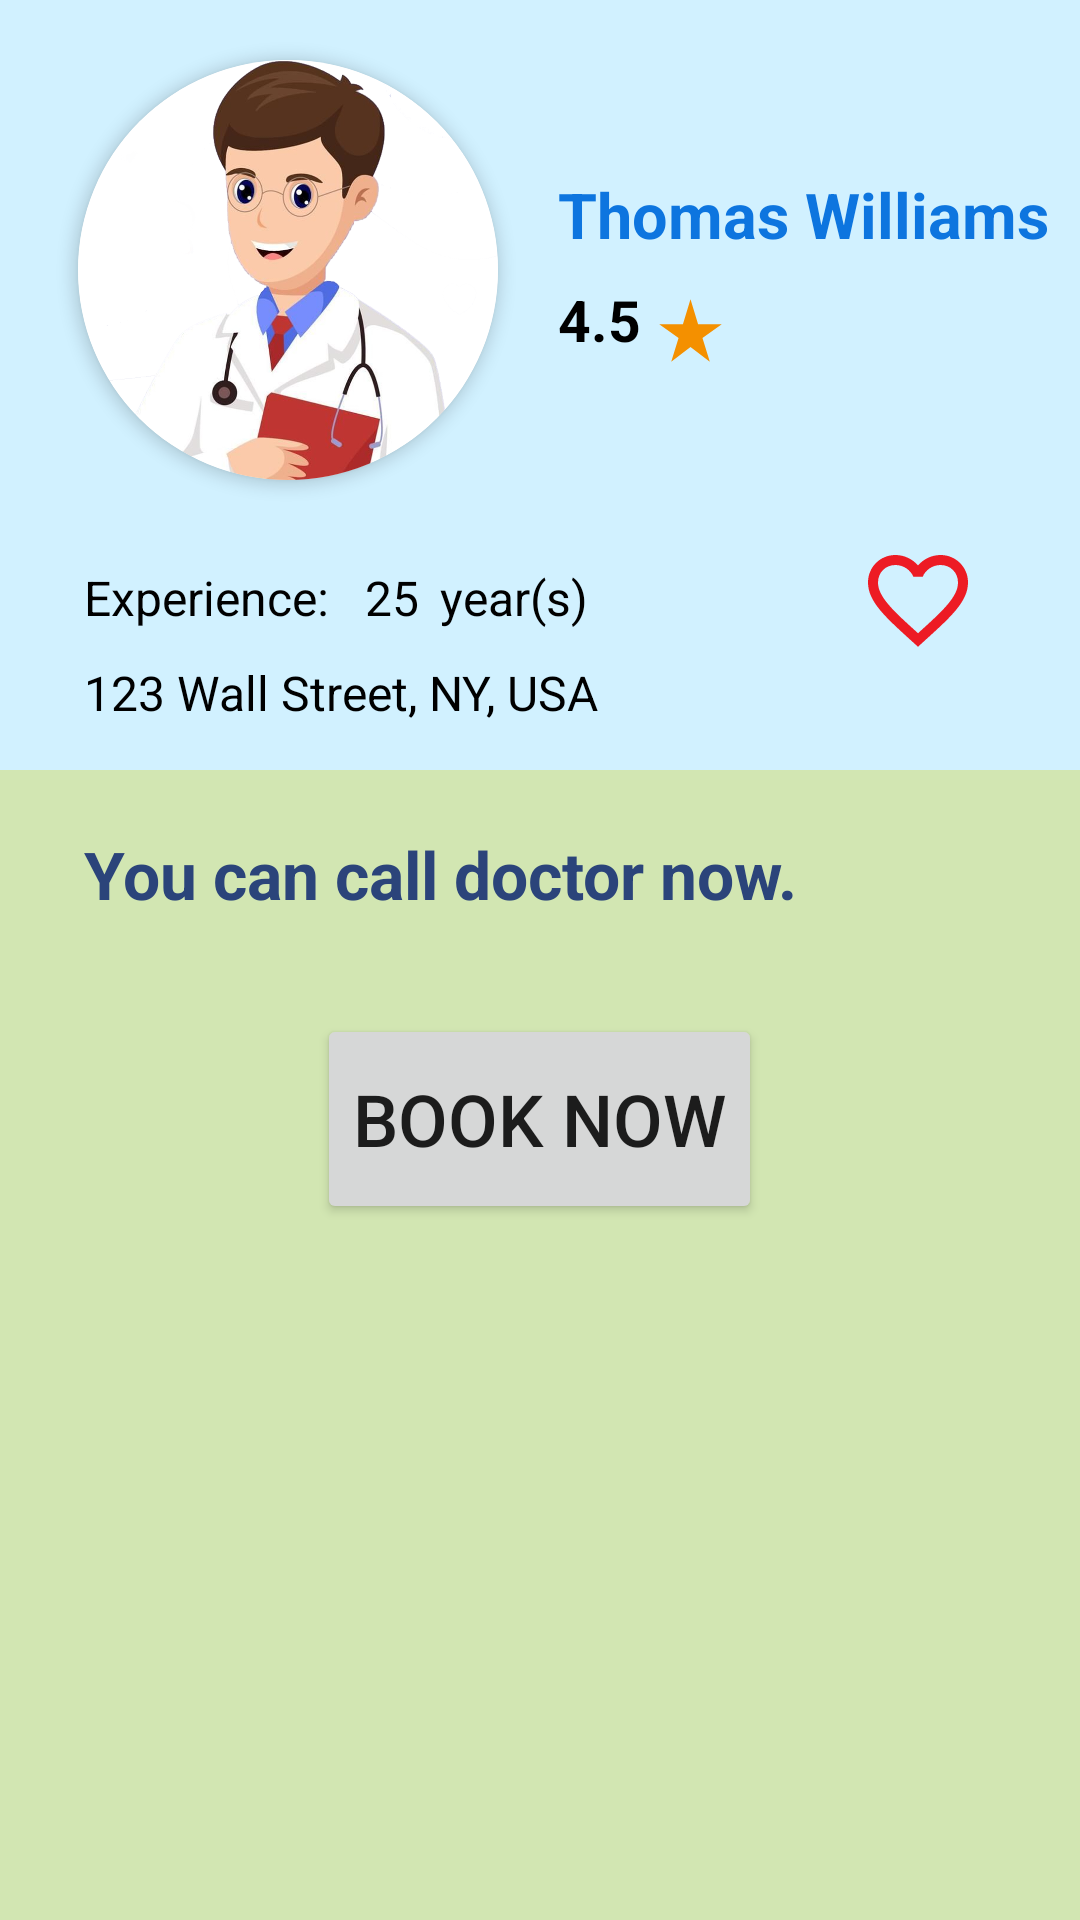

Point at icon controls on the screen. Image size 1080 × 1920, points as [x,y].
star rate: [690,330]
